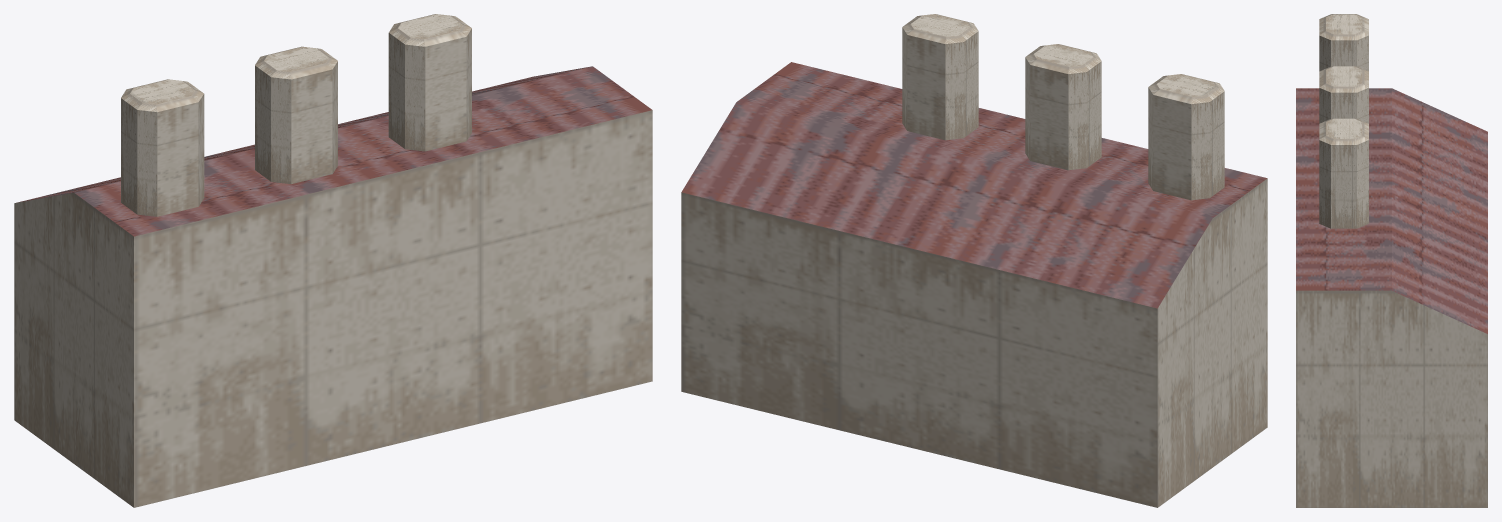
Rendered from Fabrica1.fbx.
3 views of the same model, side by side, from view 1: azimuth 30°, elevation 25°; view 2: azimuth 150°, elevation 25°; view 3: azimuth 270°, elevation 25° (orthographic). The views are drawn at different scales.
Parts seen in each view (by area): view 1: Cube.016; view 2: Cube.016; view 3: Cube.016.
Part boxes in pixels (x1,y1,x2,y2): Cube.016: (14, 14, 652, 507); Cube.016: (681, 14, 1267, 507); Cube.016: (1296, 14, 1487, 507).
Bounding box in the file's own units: 1000 × 700 × 400.
Materials: 2 (2 with a texture image).
